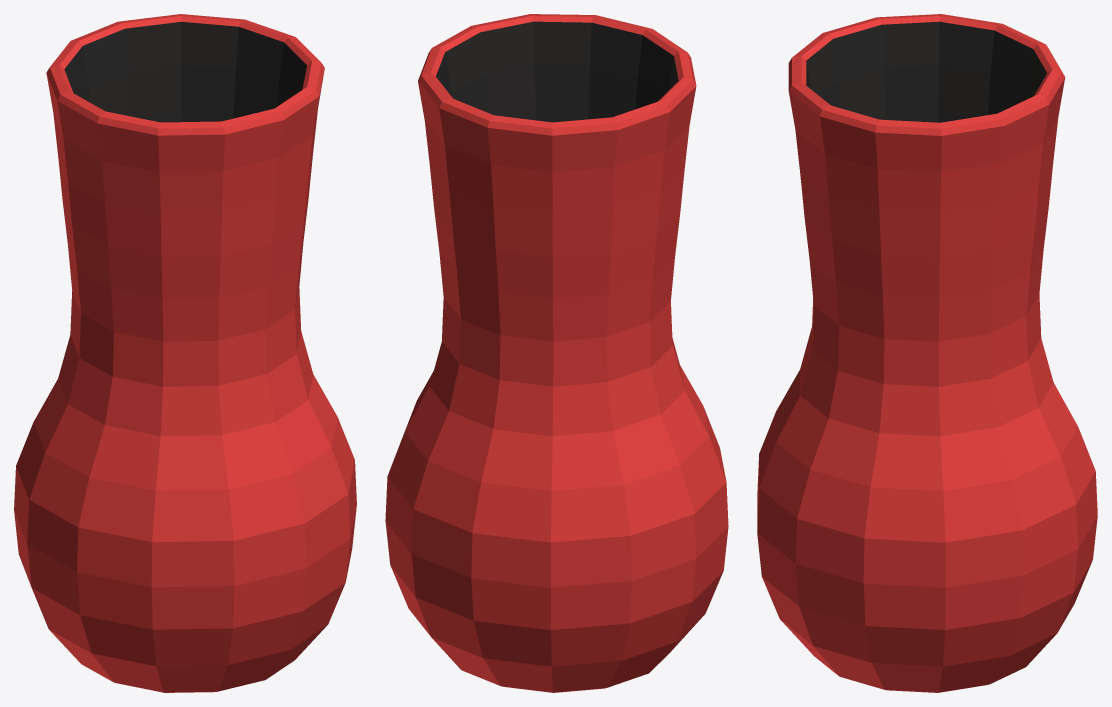
The model's file is CATastropheVaseRed.fbx.
The picture shows the model from 3 angles, left to right: view 1: azimuth 30°, elevation 25°; view 2: azimuth 150°, elevation 25°; view 3: azimuth 270°, elevation 25°; orthographic projection.
Visible parts, largest first — view 1: Vase; view 2: Vase; view 3: Vase.
Boxes of the visible parts, left/top/right/bottom form: Vase: left=14, top=14, right=356, bottom=692; Vase: left=385, top=14, right=728, bottom=692; Vase: left=757, top=14, right=1097, bottom=692.
Bounding box in the file's own units: 48.61 × 90.48 × 48.26.
